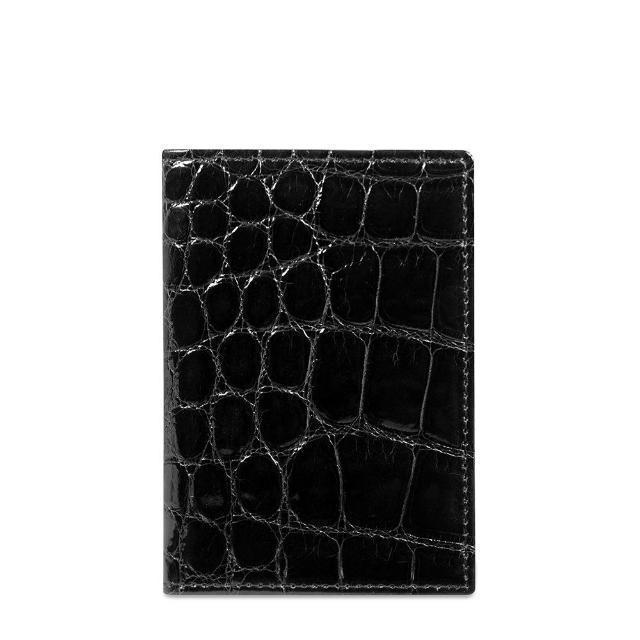wallet: (153, 138, 487, 606)
